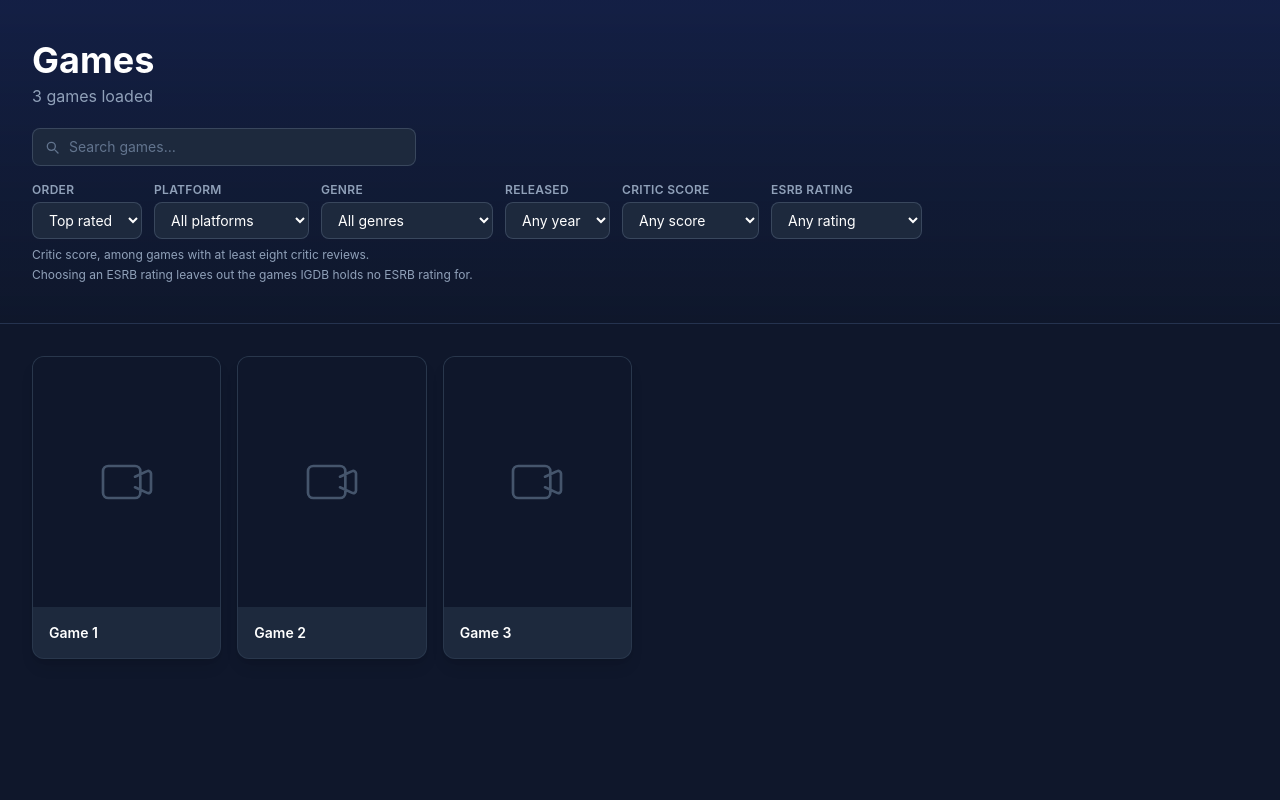
GamesPage while a filter is on its way › shows the choice just made while its page loads
Step 1. Select "PC (Windows)" in the dropdown labelled "Platform" → [232, 220], box [154,202,309,239]
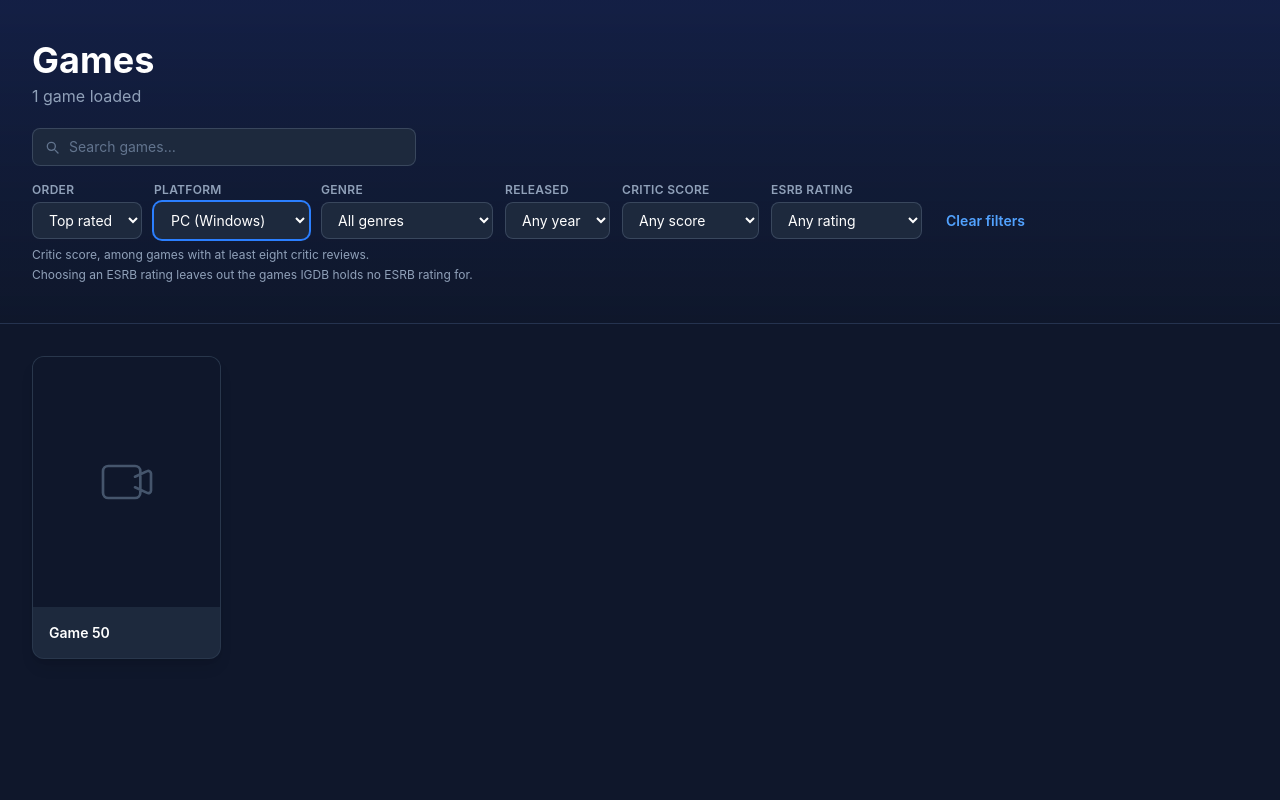
Now the link "Game 50" is shown, box [49,624,110,641]
